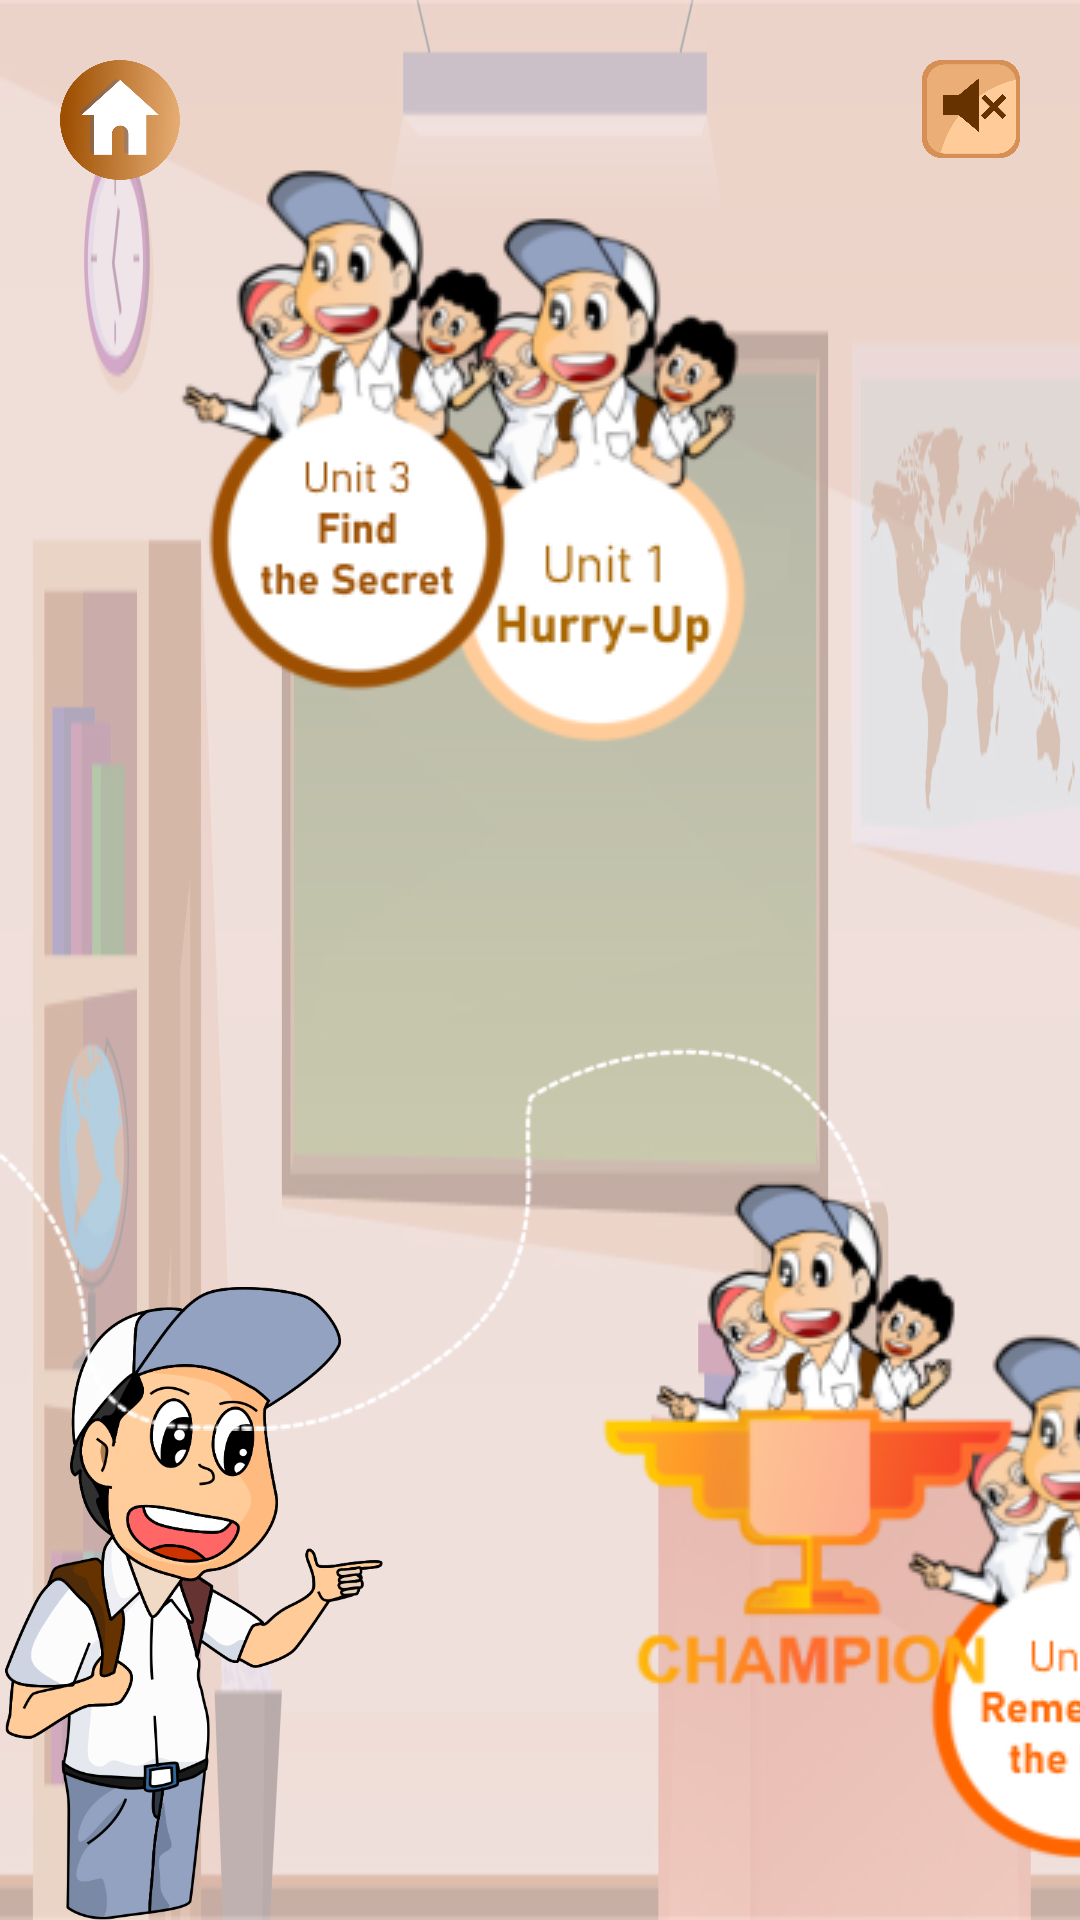

Named icons in this screenshot (1080w x 1920h) and their bounding boxes, detection(x1, y1, x2, y2):
home brown: detection(60, 60, 180, 180)
sound of: detection(922, 60, 1020, 158)
